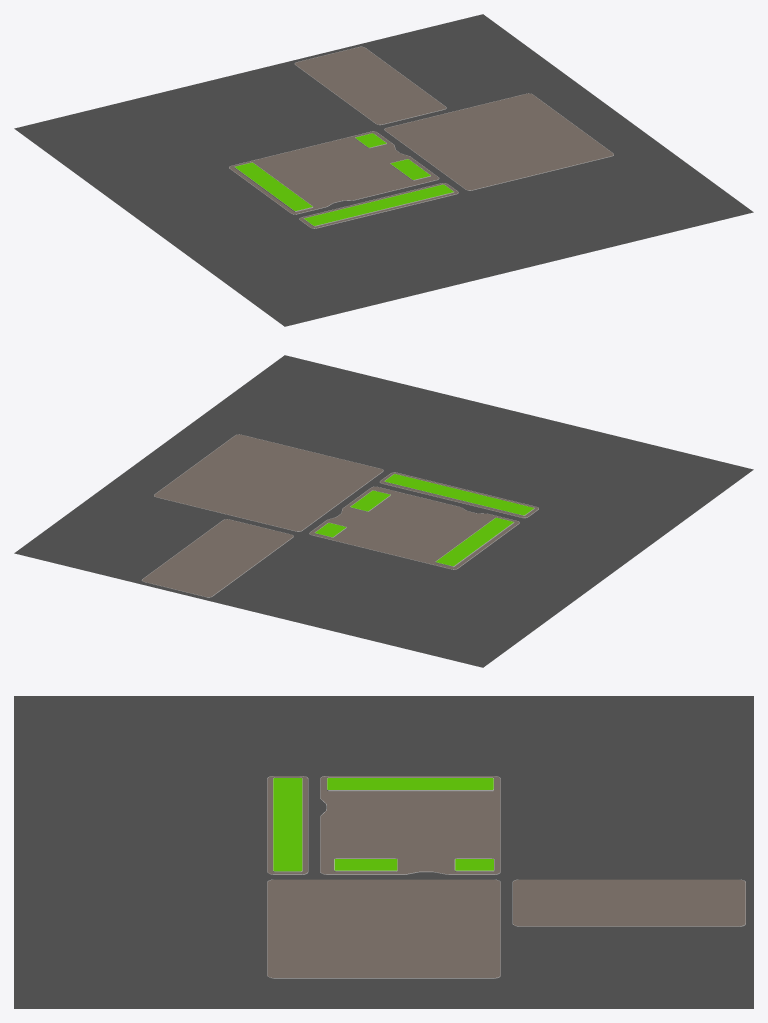
File: Grounds.fbx
The picture shows the model from 3 angles, top to bottom: view 1: azimuth 30°, elevation 25°; view 2: azimuth 150°, elevation 25°; view 3: azimuth 270°, elevation 25°; orthographic projection. The views are drawn at different scales.
Visible parts, largest first — view 1: SM_road, SM_ground_3, SM_ground_2, SM_ground_4, SM_ground_1; view 2: SM_road, SM_ground_3, SM_ground_2, SM_ground_4, SM_ground_1; view 3: SM_road, SM_ground_3, SM_ground_2, SM_ground_4, SM_ground_1.
Boxes of the visible parts, <box> form: SM_road: <box>14,14,753,326</box>; SM_ground_3: <box>384,93,613,190</box>; SM_ground_2: <box>229,131,439,214</box>; SM_ground_4: <box>294,46,446,125</box>; SM_ground_1: <box>299,183,458,228</box>; SM_road: <box>14,355,753,667</box>; SM_ground_3: <box>154,434,383,531</box>; SM_ground_2: <box>309,486,519,569</box>; SM_ground_4: <box>141,519,293,597</box>; SM_ground_1: <box>379,472,538,518</box>; SM_road: <box>14,696,753,1008</box>; SM_ground_3: <box>267,879,500,978</box>; SM_ground_2: <box>320,776,500,874</box>; SM_ground_4: <box>512,879,745,926</box>; SM_ground_1: <box>267,776,308,874</box>.
Bounding box in the file's own units: 35000 × 222 × 35000.
